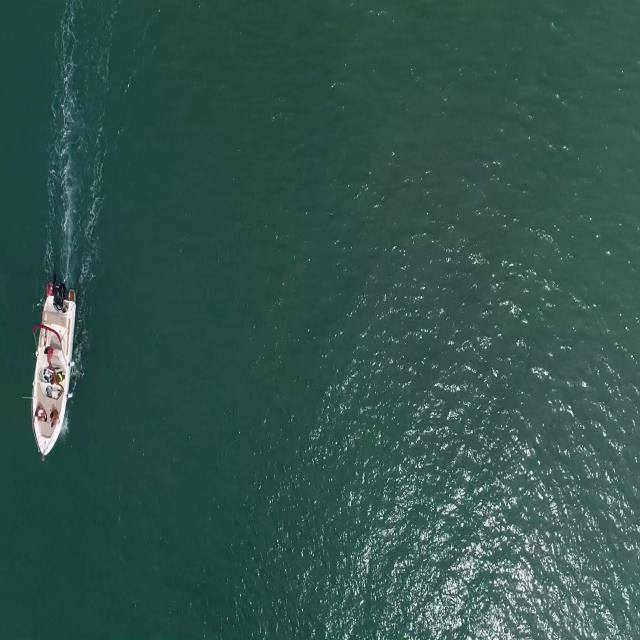boat: (31, 296, 75, 464)
life_buoy: (45, 281, 54, 294)
person: (33, 402, 47, 428), (49, 370, 65, 392), (44, 344, 54, 368), (49, 410, 59, 428)
